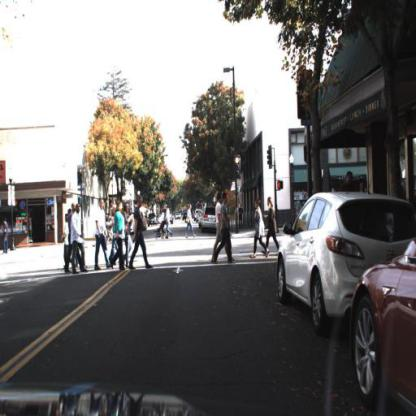car: (276, 188, 412, 336), (349, 233, 416, 416), (198, 206, 221, 232), (200, 208, 218, 234)
pedestrian: (212, 195, 234, 264), (95, 198, 111, 271), (253, 198, 270, 259), (265, 196, 281, 258), (72, 205, 84, 273), (114, 204, 126, 271), (154, 203, 174, 243), (96, 200, 107, 272), (135, 195, 146, 266), (213, 192, 223, 258), (214, 193, 223, 263), (62, 212, 72, 272), (126, 203, 134, 276), (268, 196, 277, 258), (64, 214, 72, 274), (185, 203, 197, 239), (126, 200, 132, 263), (345, 170, 357, 196), (3, 219, 10, 257), (166, 206, 172, 244)
trafficLight-Red: (233, 156, 242, 181), (78, 163, 86, 188)
